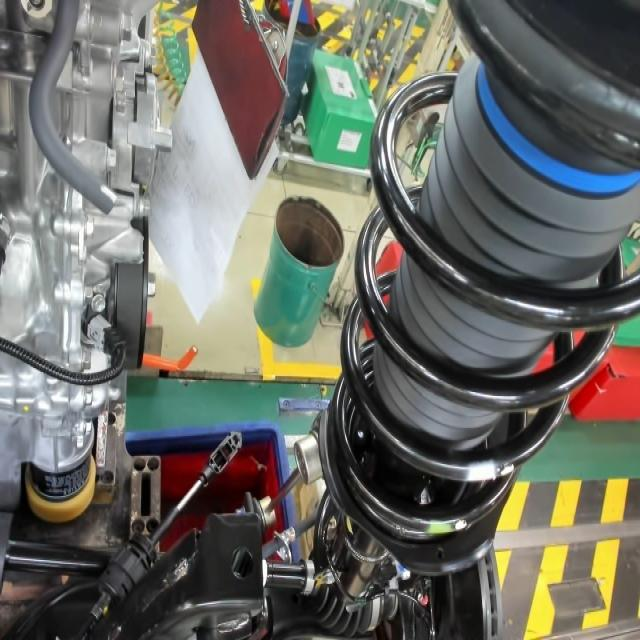Bumper-BR: (471, 56, 640, 197)
